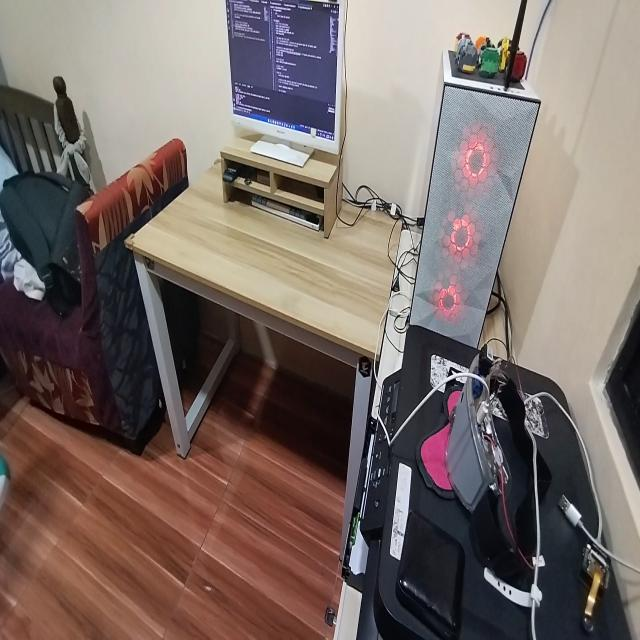table: (138, 141, 388, 522)
